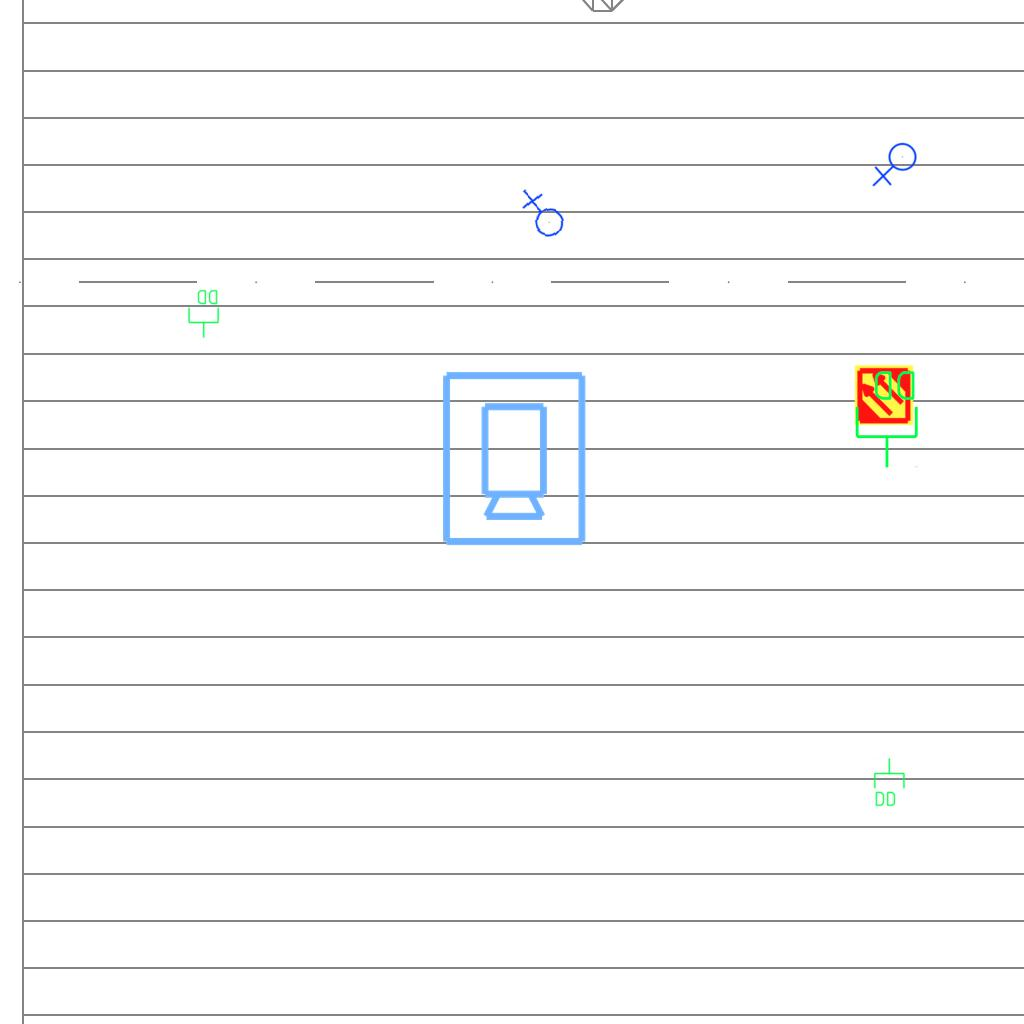ASR_Ansaugrauchmelder: (853, 364, 915, 426)
Datenanschluss_zweifach: (853, 367, 922, 470), (872, 757, 906, 808), (187, 288, 221, 339)
Elektroanschluss_allgemein_230V_Geraeteanschlussdose_230V: (515, 188, 568, 243), (872, 142, 921, 189)
KFO_Kamera_mit_Festobjektiv: (436, 367, 590, 549)
